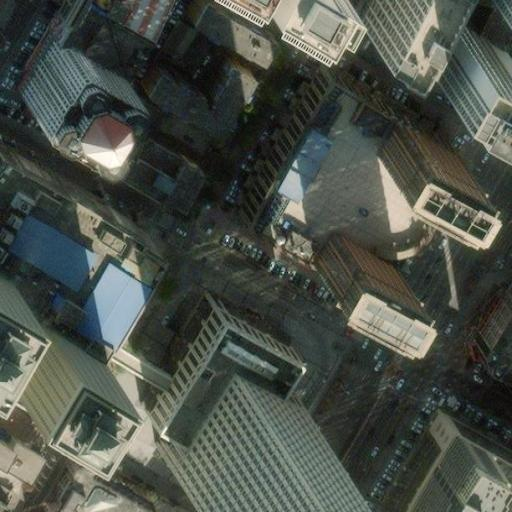building: (219, 80, 414, 266), (140, 352, 280, 502), (133, 299, 278, 424), (1, 31, 104, 134), (373, 407, 469, 512), (133, 52, 248, 139), (97, 113, 201, 201), (340, 111, 441, 191), (421, 428, 512, 512), (282, 227, 375, 301), (415, 12, 495, 85), (475, 280, 512, 365), (355, 0, 405, 37)
